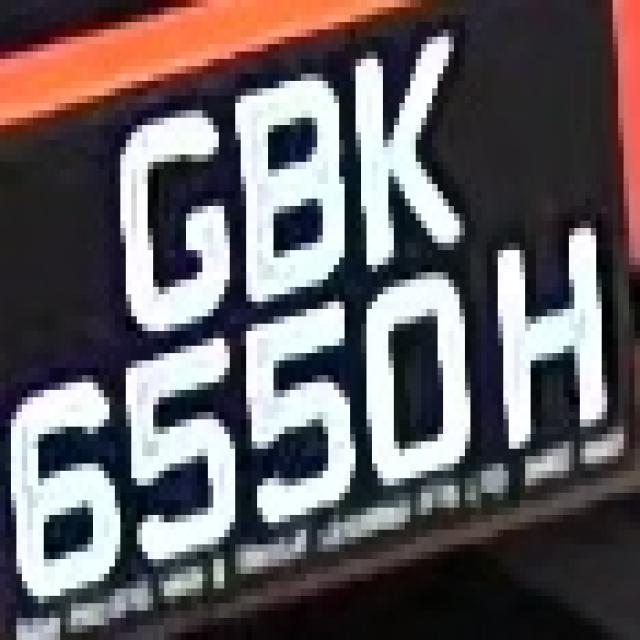0: (350, 258, 476, 500)
5: (115, 316, 252, 574), (246, 294, 372, 544)
6: (16, 360, 126, 632)
B: (230, 66, 361, 309)
G: (98, 96, 230, 360)
H: (487, 206, 629, 456)
K: (328, 14, 465, 280)
